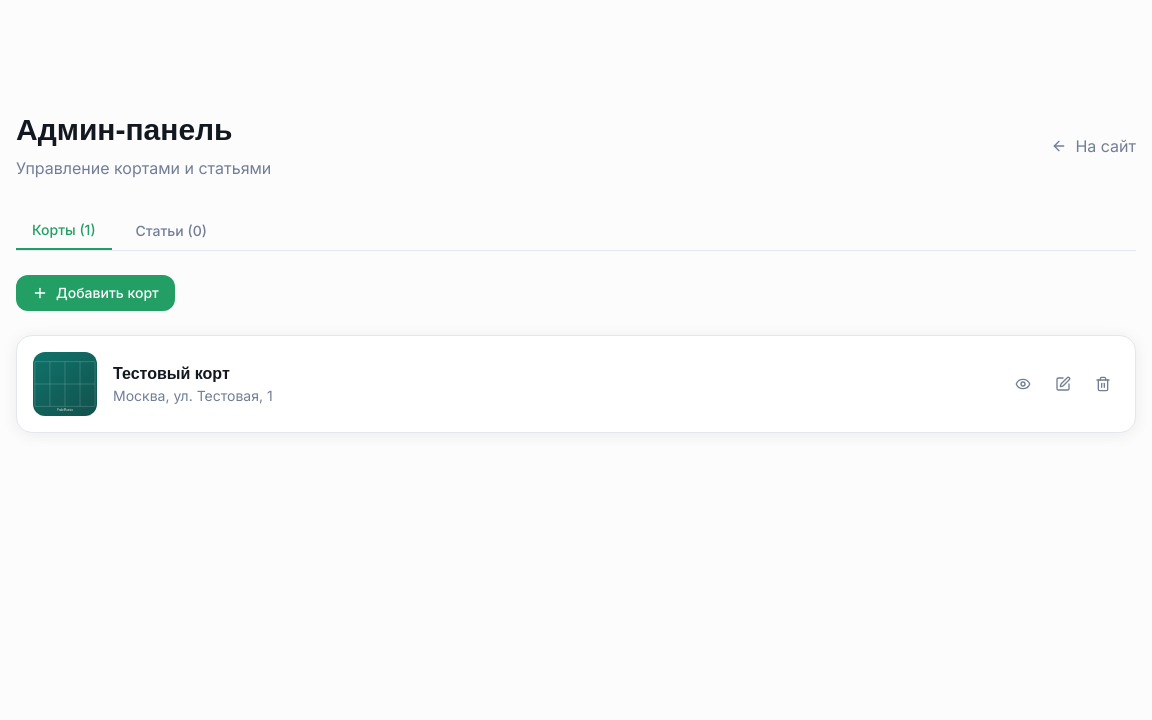
AdminClient — формы добавления/редактирования › открывает форму редактирования с данными корта
The image size is (1152, 720).
Expected: the text "Тестовый корт" is shown, [113,365,230,382]
What coordinates should you click on to do the following:
click the 4th button
I would click on:
 (1063, 384)
Its box is [1047,368,1079,400].
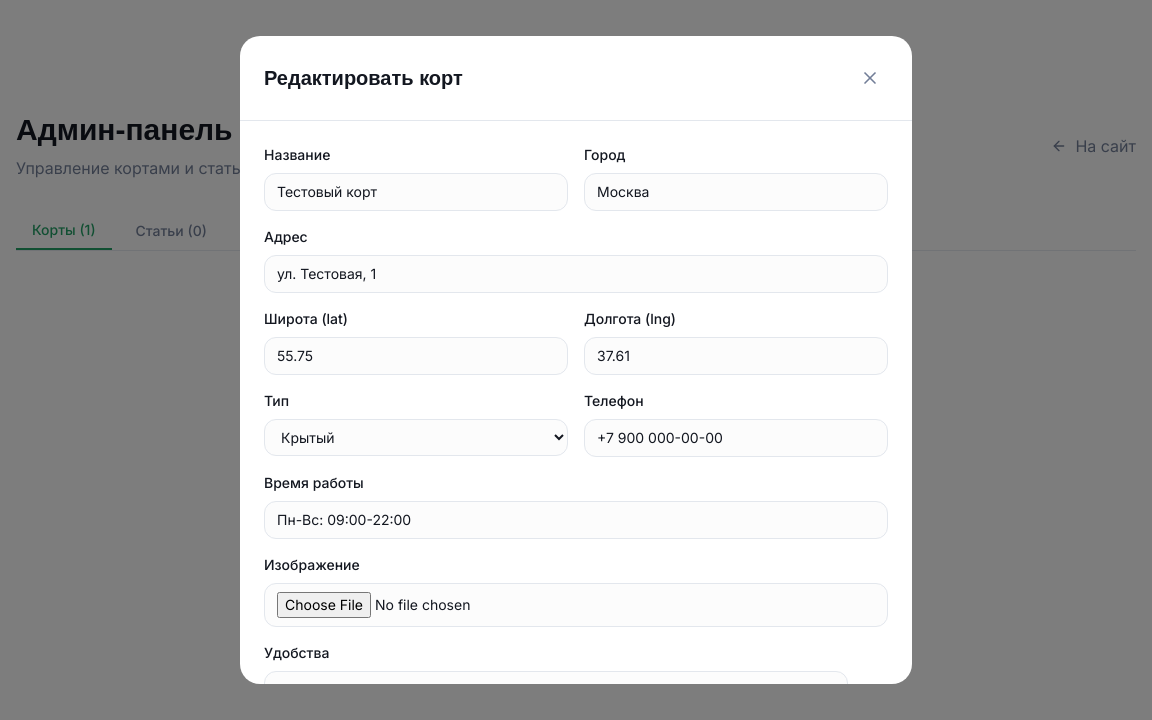
Expected: the heading "Редактировать корт" is shown, [264,64,463,92]
Expected: the field with placeholder "Название корта" below "Название" holds "Тестовый корт", [264,173,568,211]
Expected: the field with placeholder "Адрес корта" below "Адрес" holds "ул. Тестовая, 1", [264,255,888,293]
